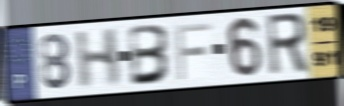6: (225, 15, 264, 80)
8: (38, 33, 72, 91)
B: (128, 23, 173, 88)
F: (173, 20, 213, 82)
H: (74, 26, 122, 92)
R: (264, 11, 311, 79)
